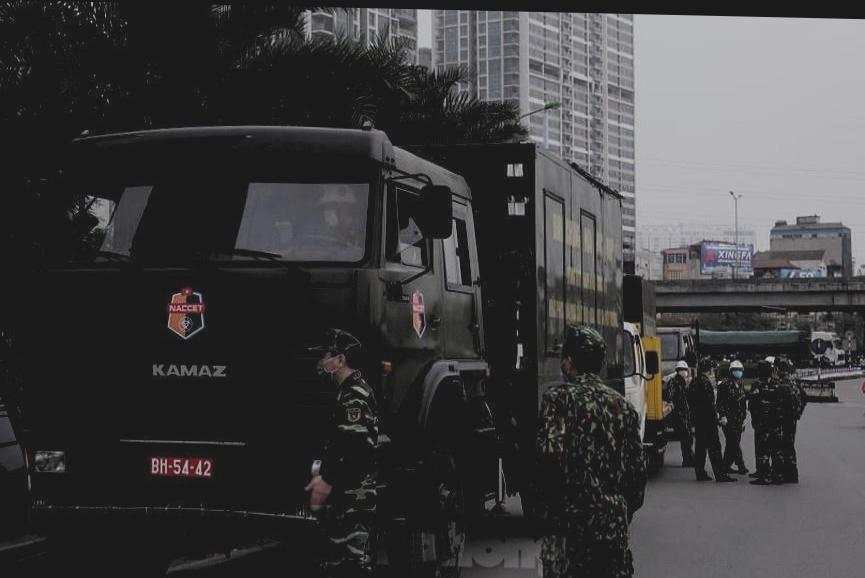License_Plate: (148, 455, 215, 482)
